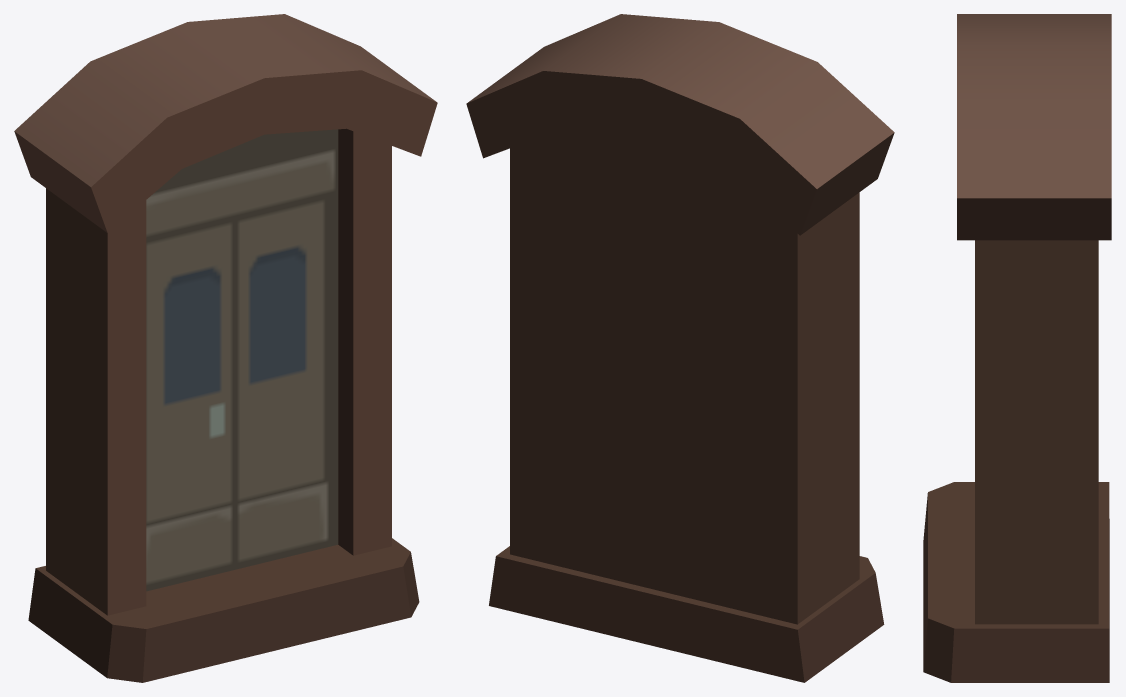
The model's file is Door_E01.fbx.
3 views of the same model, side by side, from view 1: azimuth 30°, elevation 25°; view 2: azimuth 150°, elevation 25°; view 3: azimuth 270°, elevation 25° (orthographic).
Parts seen in each view (by area): view 1: Door_E01; view 2: Door_E01; view 3: Door_E01.
Part boxes in pixels (left/top/right/bottom): Door_E01: left=14, top=14, right=437, bottom=682; Door_E01: left=466, top=14, right=894, bottom=682; Door_E01: left=923, top=14, right=1111, bottom=682.
Bounding box in the file's own units: 245 × 377 × 114.
